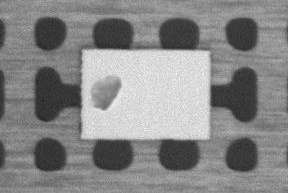DIE_INK: (127, 48, 187, 77)
